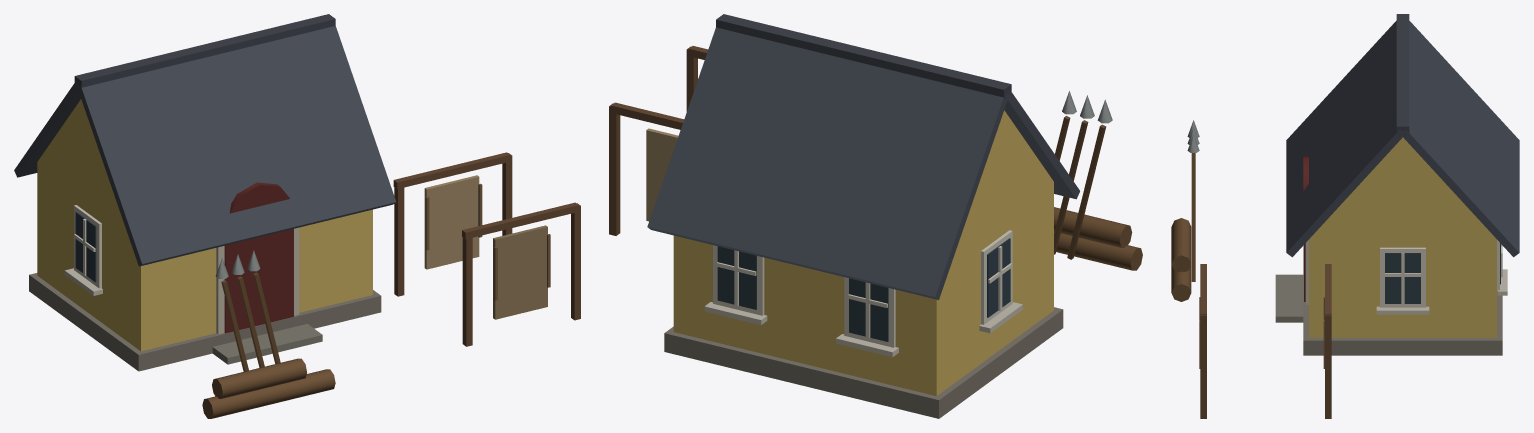
The model's file is procedural_hunter@4.glb.
The picture shows the model from 3 angles, left to right: view 1: azimuth 30°, elevation 25°; view 2: azimuth 150°, elevation 25°; view 3: azimuth 270°, elevation 25°; orthographic projection. The views are drawn at different scales.
Parts seen in each view (by area): view 1: part_0; view 2: part_0; view 3: part_0.
Part boxes in pixels (x1,y1,x2,y2): part_0: [14, 14, 580, 418]; part_0: [609, 14, 1142, 418]; part_0: [1171, 14, 1519, 418].
Size of the model in its own units: 7.42 by 4.61 by 6.28.
